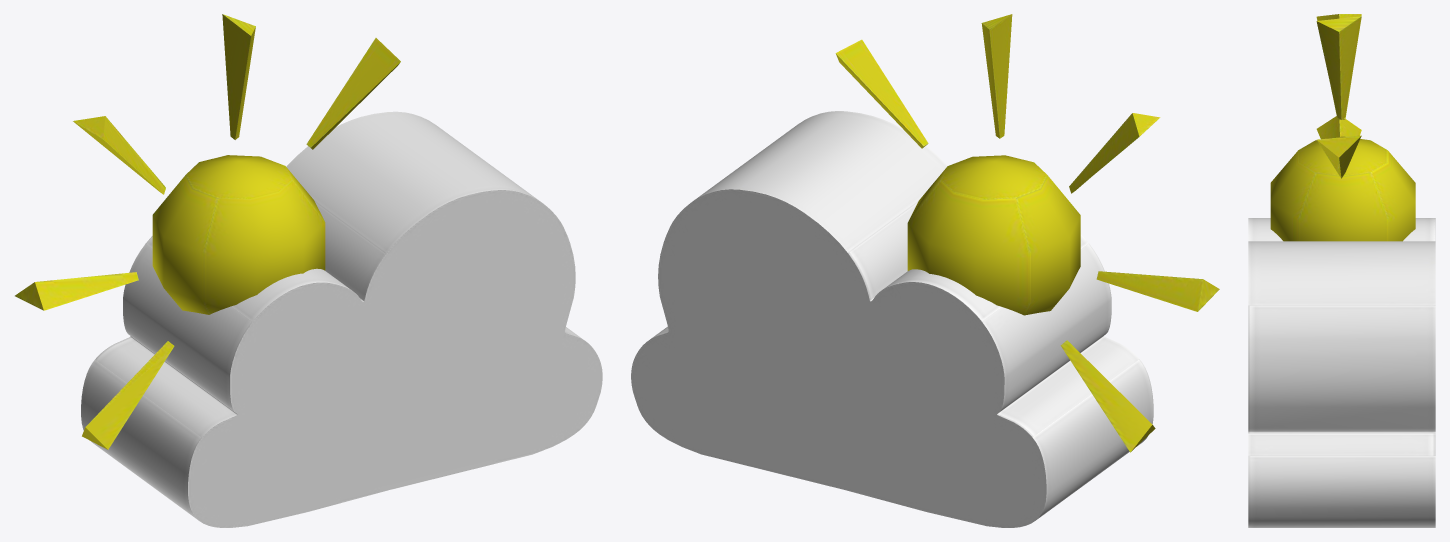
File: cloudy_icon.glb
3 views of the same model, side by side, from view 1: azimuth 30°, elevation 25°; view 2: azimuth 150°, elevation 25°; view 3: azimuth 270°, elevation 25° (orthographic). The views are drawn at different scales.
Visible parts, largest first — view 1: sun_cloud_sun&cloud_0; view 2: sun_cloud_sun&cloud_0; view 3: sun_cloud_sun&cloud_0.
Part boxes in pixels (left/top/right/bottom): sun_cloud_sun&cloud_0: left=15, top=14, right=602, bottom=527; sun_cloud_sun&cloud_0: left=631, top=14, right=1219, bottom=527; sun_cloud_sun&cloud_0: left=1248, top=14, right=1435, bottom=527.
Bounding box in the file's own units: 28.86 × 24 × 10.21.
Materials: 1 (1 with a texture image).
